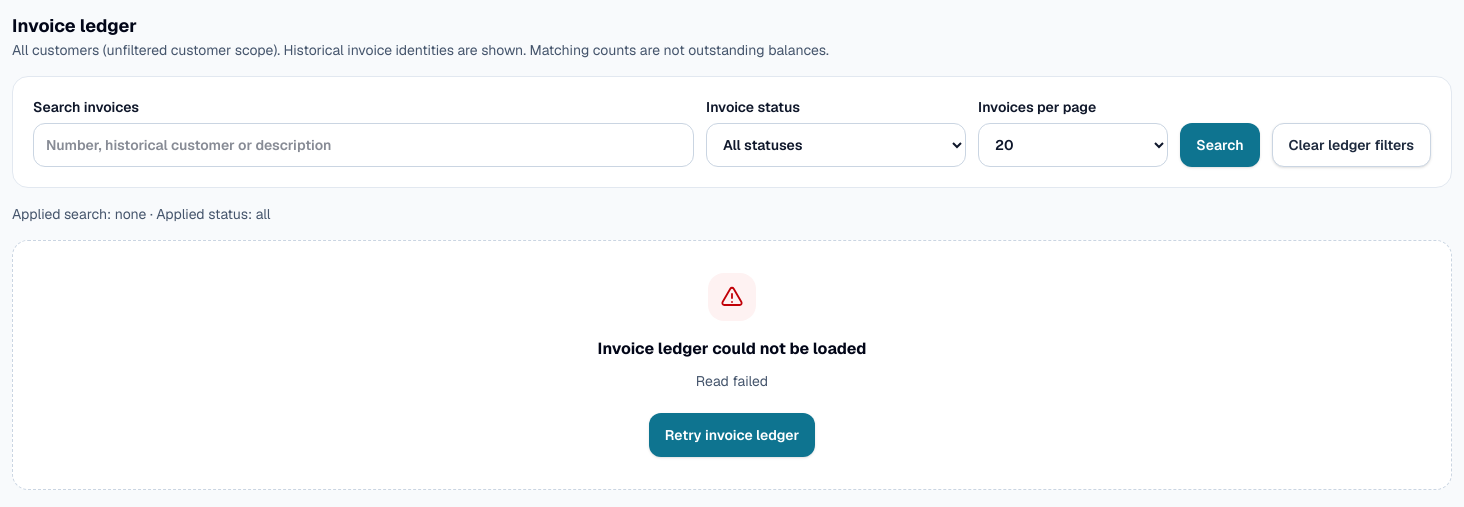
Test: administrator invoice ledger › retries only failed reads
Step 1. Click the button "Retry invoice ledger" → (732, 435), box [649, 413, 815, 457]
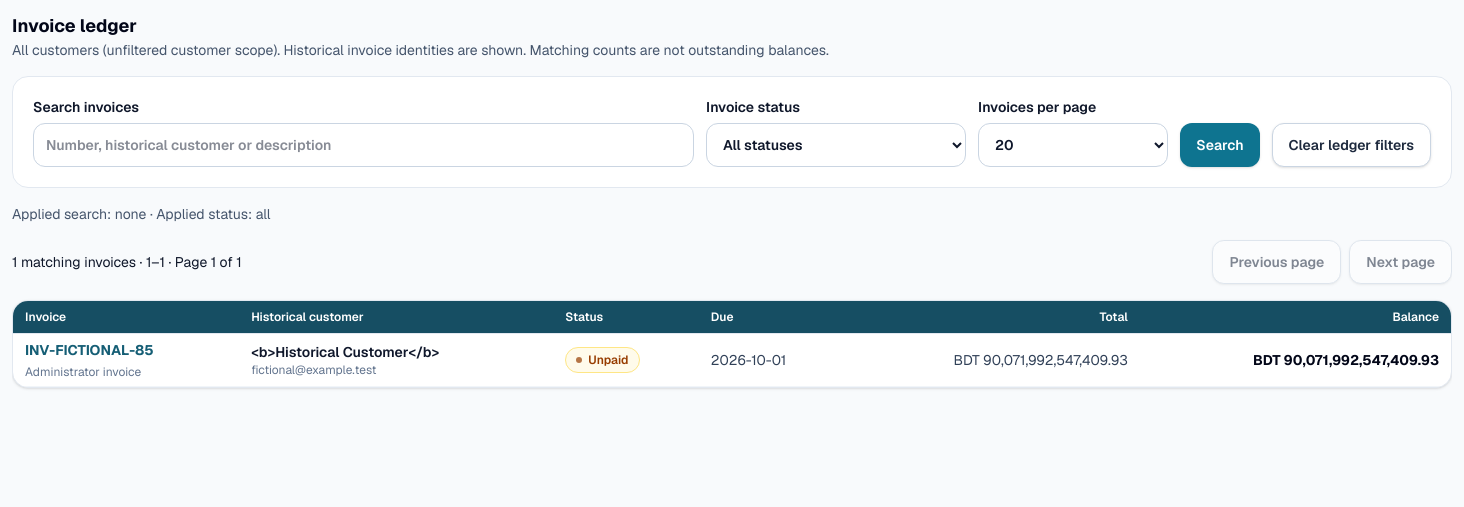
expect the link "INV-FICTIONAL-85" is shown: met, box [25, 341, 154, 359]
